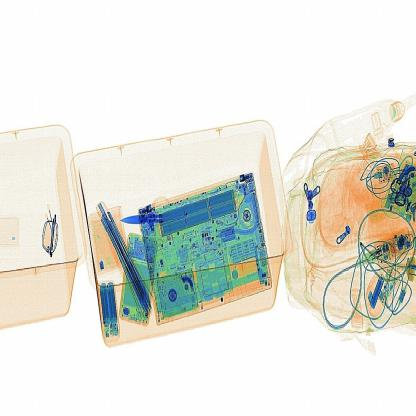gun: (116, 200, 177, 240)
